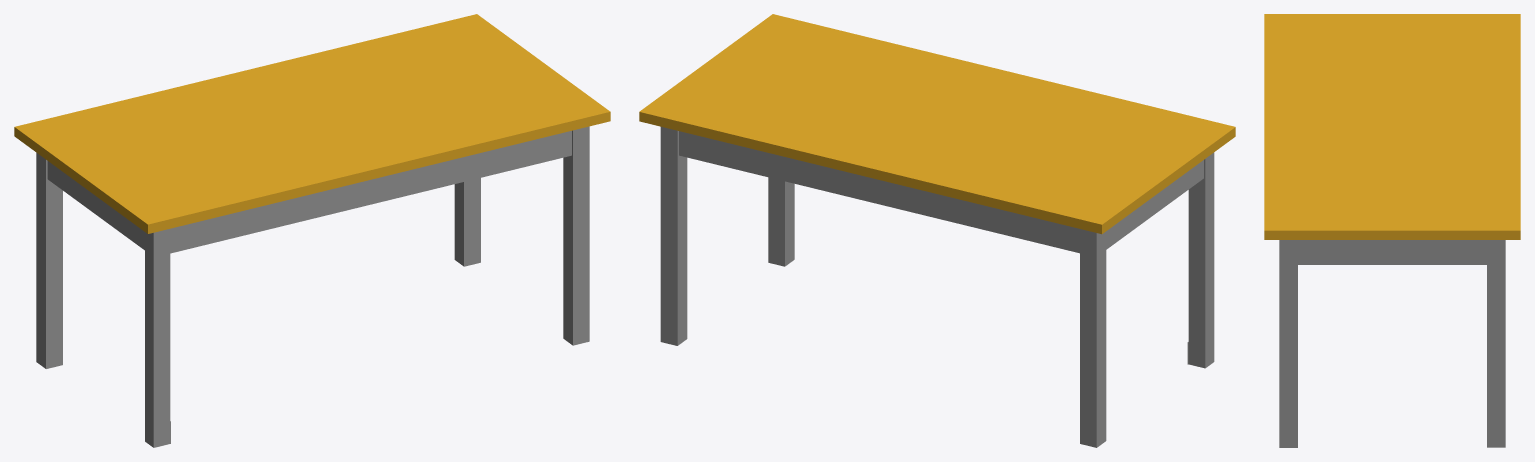
Rendered from table_1 v1.fbx.
3 views of the same model, side by side, from view 1: azimuth 30°, elevation 25°; view 2: azimuth 150°, elevation 25°; view 3: azimuth 270°, elevation 25° (orthographic). The views are drawn at different scales.
Parts seen in each view (by area): view 1: Body1, Body5, Body6, Body7, Body8, Body9, Body3; view 2: Body1, Body4, Body8, Body9, Body6, Body7, Body3; view 3: Body1, Body2, Body7, Body9.
Boxes of the visible parts, x1,y1,x2,y2 form: Body1: [14, 14, 610, 233]; Body5: [170, 131, 571, 253]; Body6: [145, 229, 170, 447]; Body7: [563, 126, 589, 345]; Body8: [36, 152, 62, 368]; Body9: [454, 178, 480, 266]; Body3: [47, 161, 144, 250]; Body1: [639, 14, 1235, 234]; Body4: [679, 131, 1079, 253]; Body8: [1080, 229, 1106, 447]; Body9: [660, 126, 687, 345]; Body6: [1188, 152, 1214, 368]; Body7: [768, 177, 794, 266]; Body3: [1106, 160, 1203, 249]; Body1: [1264, 14, 1520, 239]; Body2: [1298, 240, 1486, 264]; Body7: [1279, 240, 1297, 447]; Body9: [1487, 240, 1505, 447].
Size of the model in its own units: 1.52 by 0.73 by 0.76.
